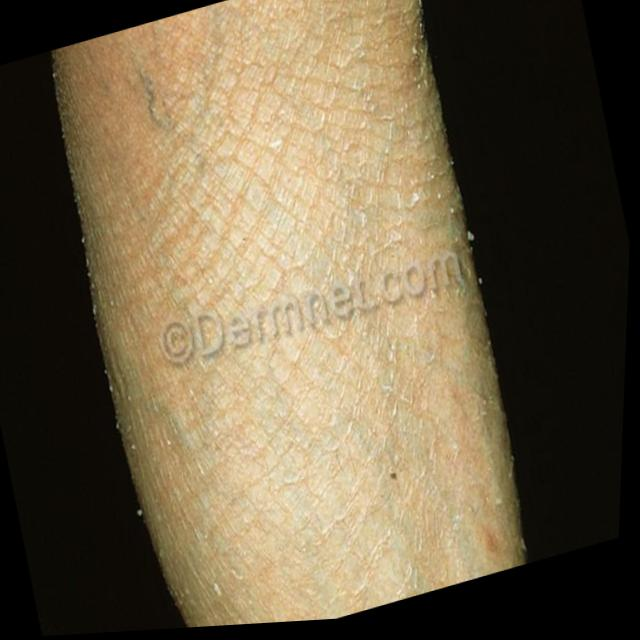liquenificacion 1: (56, 0, 518, 627)
